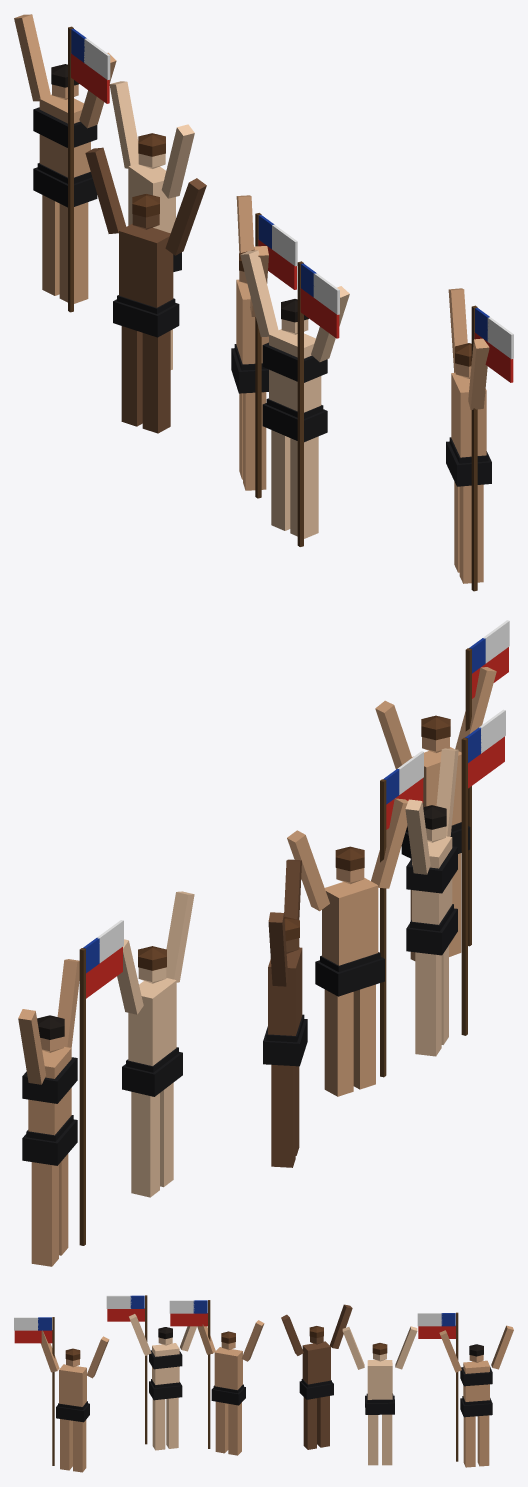
File: nudista_publico_0.obj
3 views of the same model, one above another, from view 1: azimuth 30°, elevation 25°; view 2: azimuth 150°, elevation 25°; view 3: azimuth 270°, elevation 25° (orthographic). The views are drawn at different scales.
Parts seen in each view (by area): view 1: nudista_publico_0; view 2: nudista_publico_0; view 3: nudista_publico_0.
Part boxes in pixels (x1,y1,x2,y2): nudista_publico_0: (14,14,513,591); nudista_publico_0: (18,620,509,1266); nudista_publico_0: (14,1295,513,1472).
Size of the model in its own units: 1.11 by 2.1 by 6.44.
